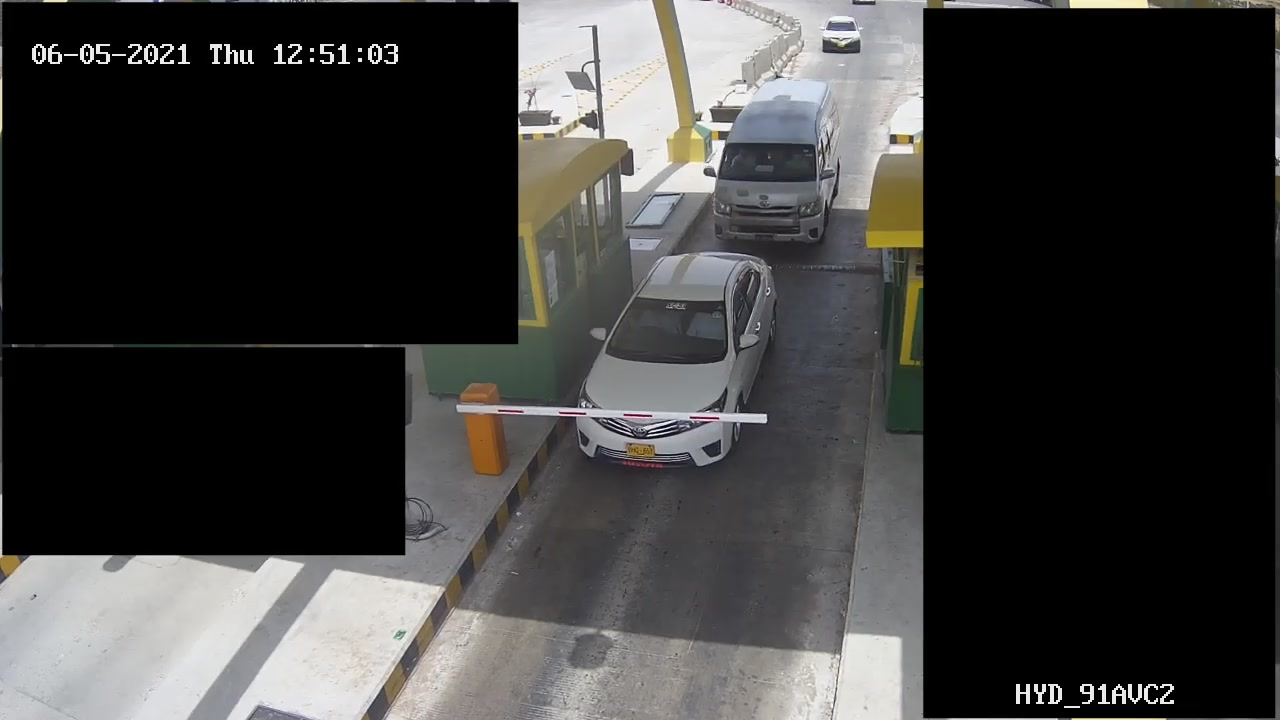F1: (565, 240, 780, 469)
F2: (712, 72, 844, 258)
